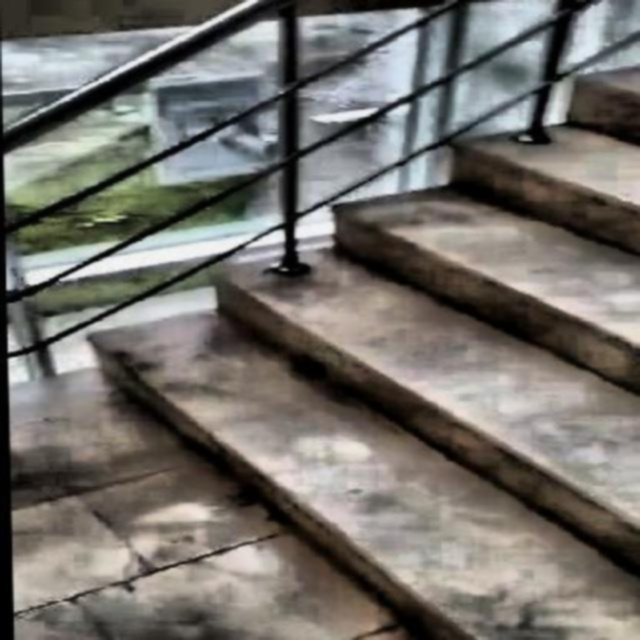stair: (65, 56, 640, 638)
